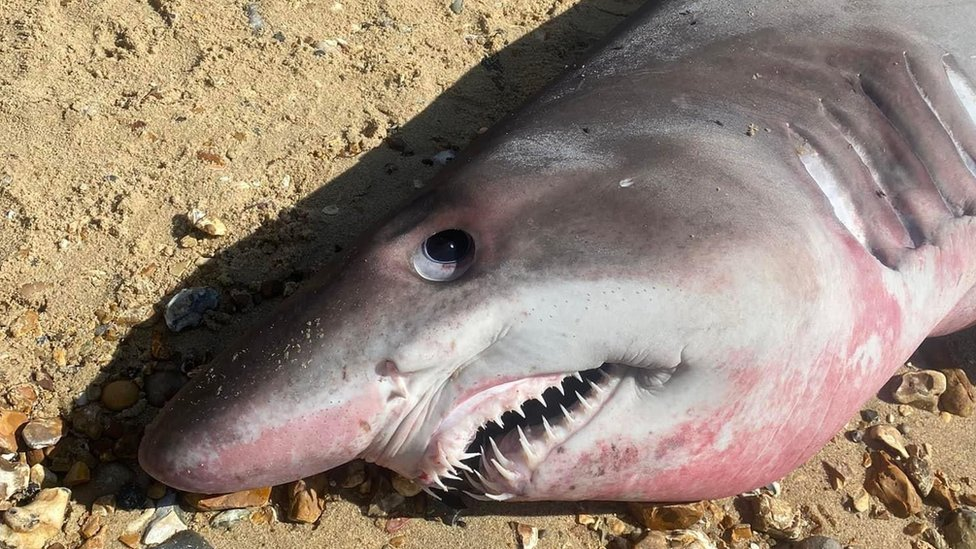Shark: (139, 1, 975, 500)
